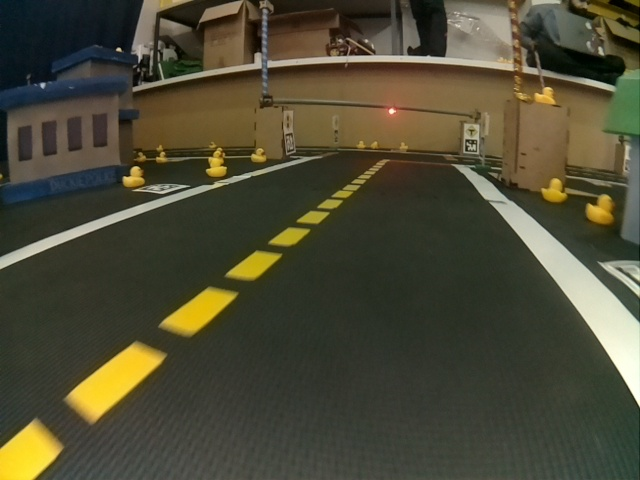Duckie: (587, 195, 615, 223), (541, 178, 566, 202), (122, 166, 144, 187), (207, 158, 227, 177), (536, 89, 556, 105), (250, 148, 267, 163), (399, 142, 408, 151), (157, 153, 166, 162), (370, 141, 379, 149), (357, 140, 365, 148)
Intersection sign: (464, 125, 479, 138)
QR code: (135, 182, 189, 192), (463, 141, 478, 153), (284, 134, 294, 152)
Signal sign: (285, 110, 294, 130)
Traffic light: (388, 106, 397, 116)
